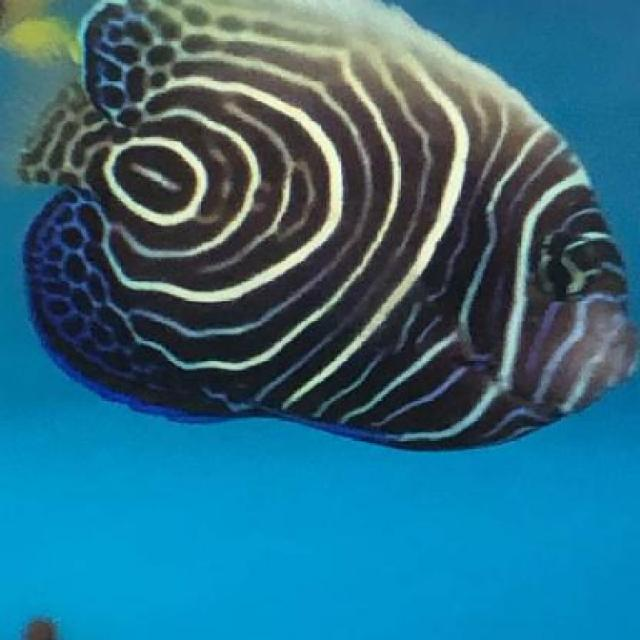AngelFish: (9, 2, 633, 450)
